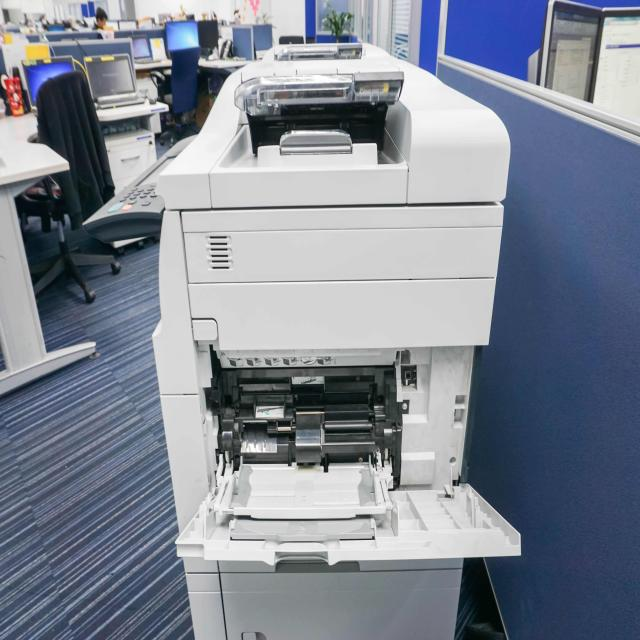printer: (152, 38, 522, 638)
